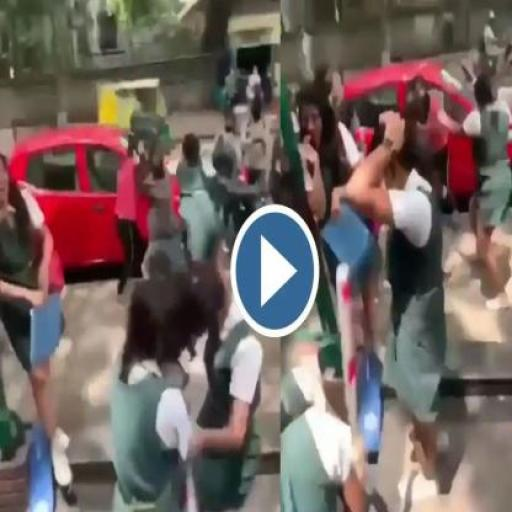Fighting: (122, 82, 468, 512)
